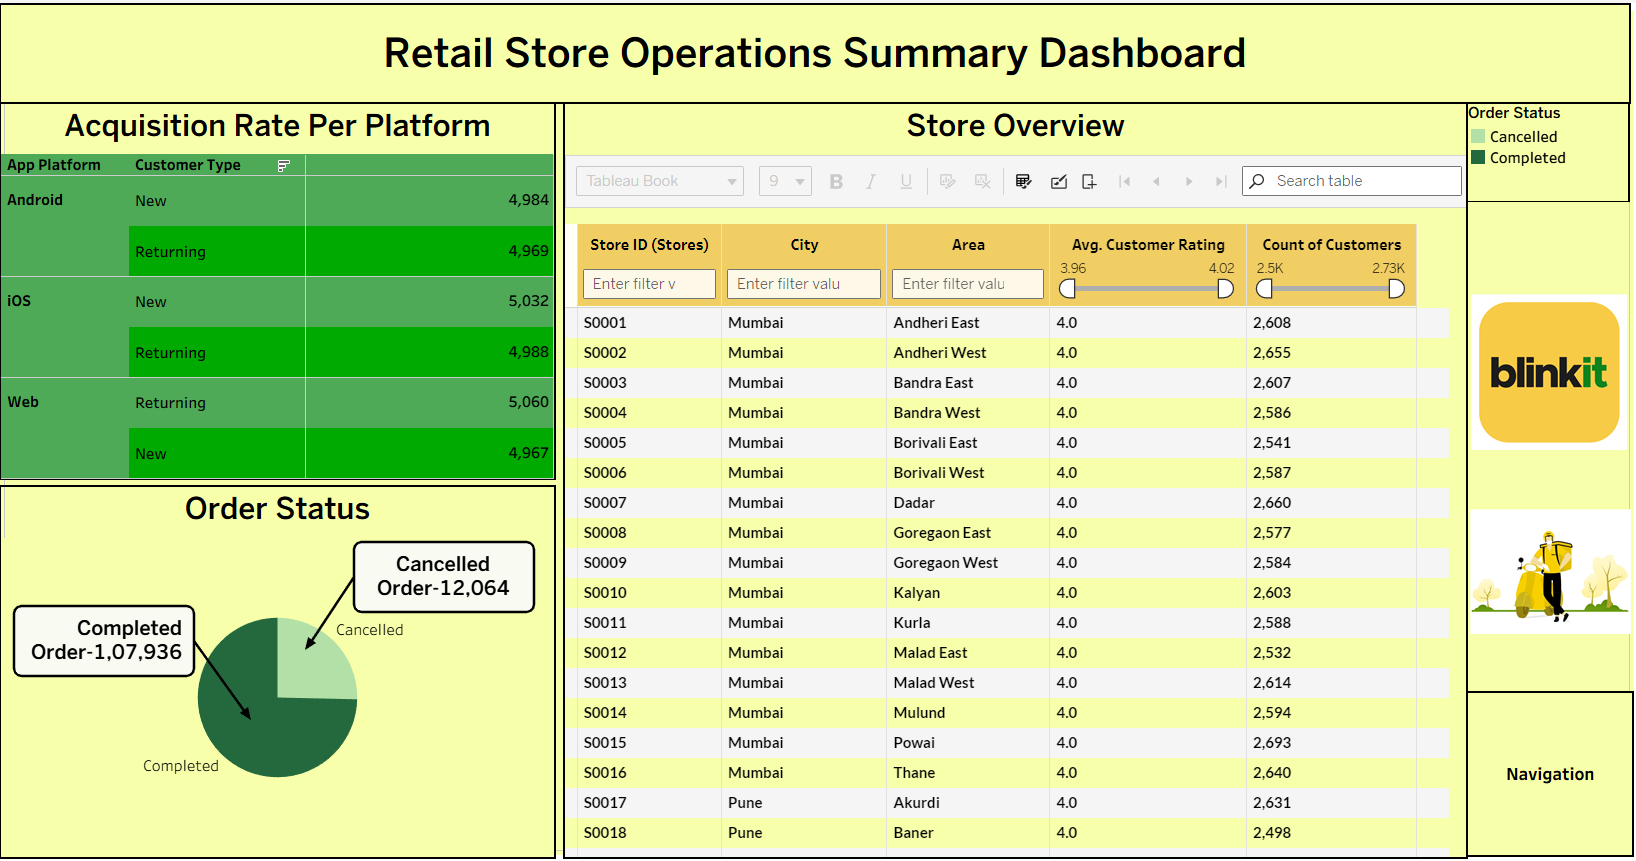

This screenshot's page, from the dashboard's own definition file:
{"tool":"tableau","page":{"name":"Store Operations","canvas":[1000,1000],"units":"permille","ordinal":3},"visuals":[{"type":"text","box":[4.2,0,989.1,117.4]},{"type":"image","box":[4.9,9.3,990.3,981.4]},{"type":"worksheet","title":"Acquisition Rate Per Platform","mark":"Automatic","rows":["App Platform","Customer Type"],"box":[4.3,114.8,337.4,440.2]},{"type":"legend","title":"Order Status","param":"[federated.1uscovc1tqehue10v8pua1d7i4ou].[none:Order Status:nk]","box":[893.2,114.8,99.4,117.2]},{"type":"worksheet","title":"Store Overview","box":[346.1,115.1,548.5,880.2]},{"type":"image","param":"Image/image.png","box":[896.4,338.4,94.5,183.7]},{"type":"worksheet","title":"Order Status","mark":"Pie","box":[4.3,561,337.4,434.3]},{"type":"image","param":"Image/image2.jpg","box":[895.8,588.4,97.6,201.2]},{"type":"dashboard-object","box":[893.3,800,101.8,193]}]}

Visuals, with their boxes on the dashboard's canvas, which has no fixed pixel size, in thousandths of its width and height (x1, y1, x2, y2). These are canvas units, not pixel positions in the 1636x861 screenshot, which may show the page scaled, cropped or inside an application window:
text: bbox=(4, 0, 993, 117)
image: bbox=(5, 9, 995, 991)
"Acquisition Rate Per Platform" worksheet: bbox=(4, 115, 342, 555)
"Order Status" legend: bbox=(893, 115, 993, 232)
"Store Overview" worksheet: bbox=(346, 115, 895, 995)
image: bbox=(896, 338, 991, 522)
"Order Status" worksheet (Pie marks): bbox=(4, 561, 342, 995)
image: bbox=(896, 588, 993, 790)
dashboard-object: bbox=(893, 800, 995, 993)
